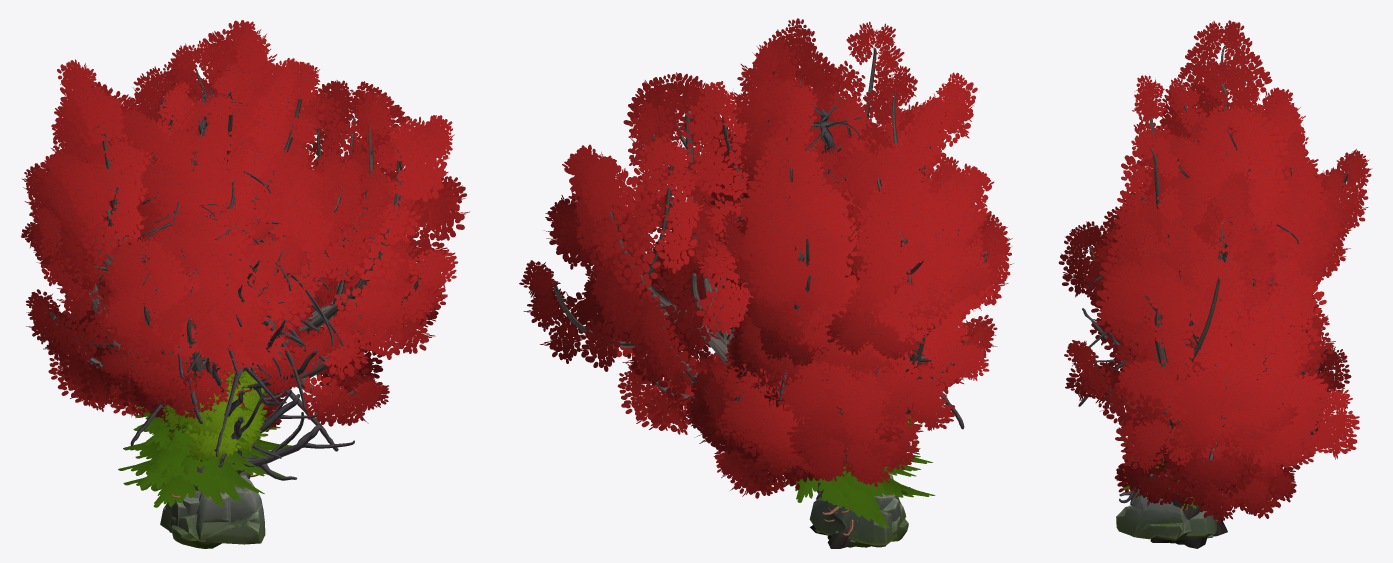
File: nature.glb
3 renders of one model, left to right at view 1: azimuth 30°, elevation 25°; view 2: azimuth 150°, elevation 25°; view 3: azimuth 270°, elevation 25°, orthographic. The views are drawn at different scales.
Visible parts, largest first — view 1: TwistedTree_2, TwistedTree_1, TwistedTree_3, TwistedTree_4, TwistedTree_5, Rock_Medium_3, DeadTree_2, Pine_2, Pine_5, Pine_4, DeadTree_4, DeadTree_5 (+6 smaller); view 2: TwistedTree_1, TwistedTree_2, TwistedTree_4, TwistedTree_3, TwistedTree_5, Rock_Medium_2, Pine_5, DeadTree_5, Pine_2; view 3: TwistedTree_1, TwistedTree_4, TwistedTree_2, TwistedTree_3, TwistedTree_5, Rock_Medium_3, Rock_Medium_2.
Part boxes in pixels (x1=…): TwistedTree_2: x1=21, y1=59, x2=320, y2=490; TwistedTree_1: x1=145, y1=60, x2=469, y2=532; TwistedTree_3: x1=48, y1=92, x2=394, y2=418; TwistedTree_4: x1=66, y1=20, x2=367, y2=433; TwistedTree_5: x1=91, y1=98, x2=345, y2=319; Rock_Medium_3: x1=172, y1=475, x2=265, y2=548; DeadTree_2: x1=182, y1=245, x2=354, y2=480; Pine_2: x1=123, y1=424, x2=272, y2=507; Pine_5: x1=118, y1=413, x2=292, y2=502; Pine_4: x1=123, y1=386, x2=267, y2=497; DeadTree_4: x1=182, y1=207, x2=343, y2=456; DeadTree_5: x1=97, y1=87, x2=338, y2=451; TwistedTree_1: x1=519, y1=72, x2=886, y2=548; TwistedTree_2: x1=721, y1=18, x2=1013, y2=442; TwistedTree_4: x1=710, y1=37, x2=938, y2=490; TwistedTree_3: x1=683, y1=99, x2=1012, y2=498; TwistedTree_5: x1=709, y1=119, x2=924, y2=411; Rock_Medium_2: x1=809, y1=493, x2=897, y2=545; Pine_5: x1=785, y1=433, x2=924, y2=520; DeadTree_5: x1=709, y1=91, x2=964, y2=429; Pine_2: x1=780, y1=448, x2=935, y2=527; TwistedTree_1: x1=1064, y1=171, x2=1359, y2=548; TwistedTree_4: x1=1080, y1=84, x2=1372, y2=380; TwistedTree_2: x1=1100, y1=20, x2=1318, y2=376; TwistedTree_3: x1=1058, y1=163, x2=1351, y2=513; TwistedTree_5: x1=1111, y1=166, x2=1350, y2=379; Rock_Medium_3: x1=1116, y1=495, x2=1186, y2=539; Rock_Medium_2: x1=1186, y1=510, x2=1216, y2=537.
Size of the model in its own units: 17.96 by 19.08 by 12.13.
12 materials, 12 textured.
